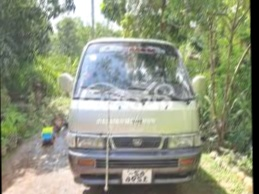van: (49, 36, 209, 192)
